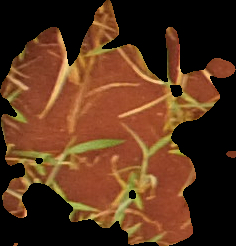soil: (3, 4, 230, 243)
